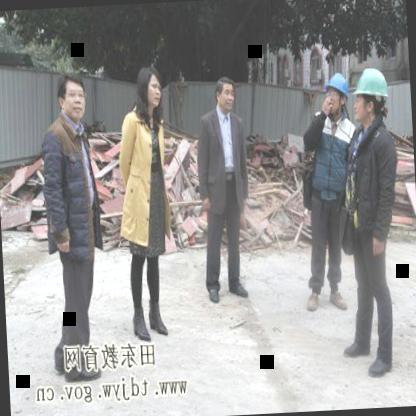head: (55, 69, 91, 124), (132, 63, 166, 118), (212, 71, 237, 113)
helmet: (348, 64, 390, 128), (322, 70, 352, 116)
